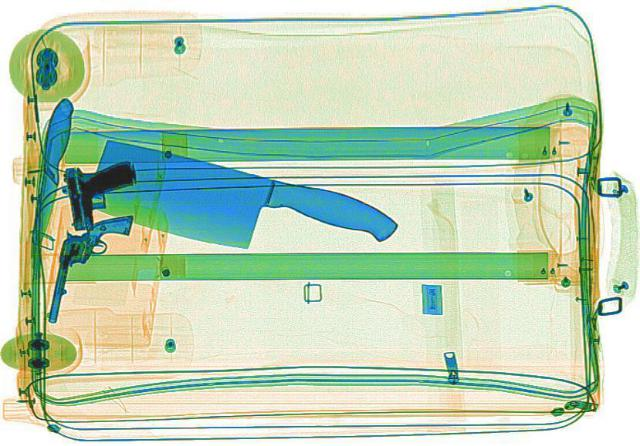Gun: (44, 209, 134, 327), (56, 161, 144, 229)
Knife: (67, 137, 406, 275), (22, 97, 74, 244)
